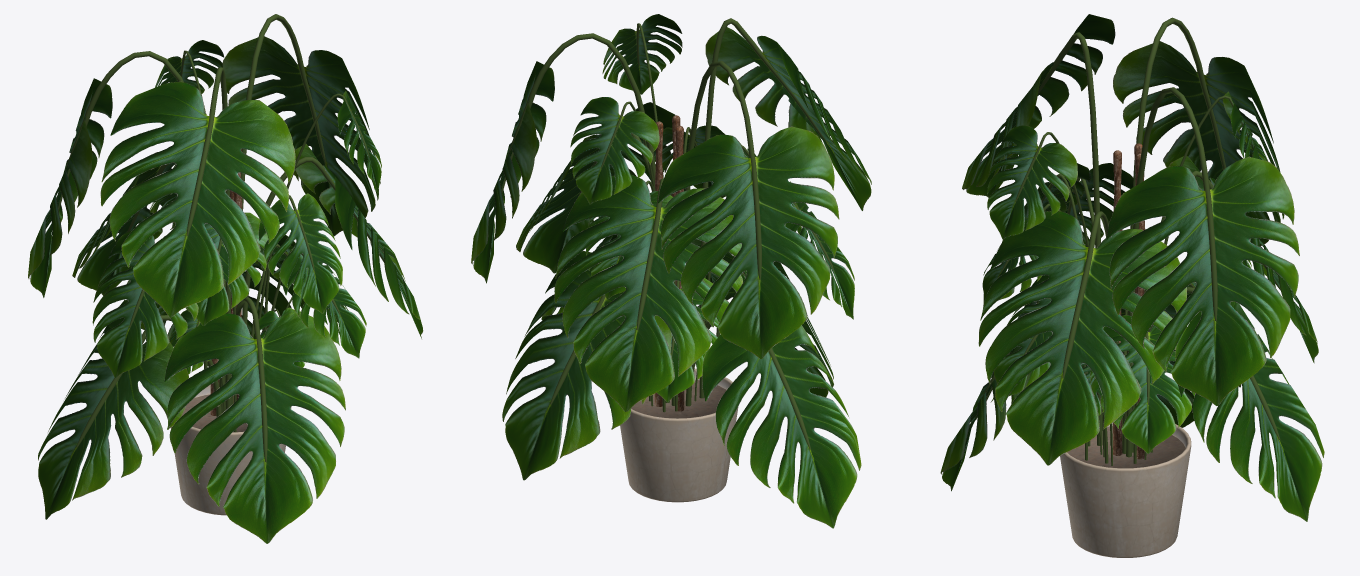
File: Monstera2.fbx
3 views of the same model, side by side, from view 1: azimuth 30°, elevation 25°; view 2: azimuth 150°, elevation 25°; view 3: azimuth 270°, elevation 25° (orthographic). The views are drawn at different scales.
Parts seen in each view (by area): view 1: Monstera; view 2: Monstera; view 3: Monstera.
Part boxes in pixels (x1,y1,x2,y2): Monstera: (28,14,423,543); Monstera: (471,14,871,528); Monstera: (940,14,1324,557).
Size of the model in its own units: 268 by 312 by 241.
5 materials, 4 textured.
